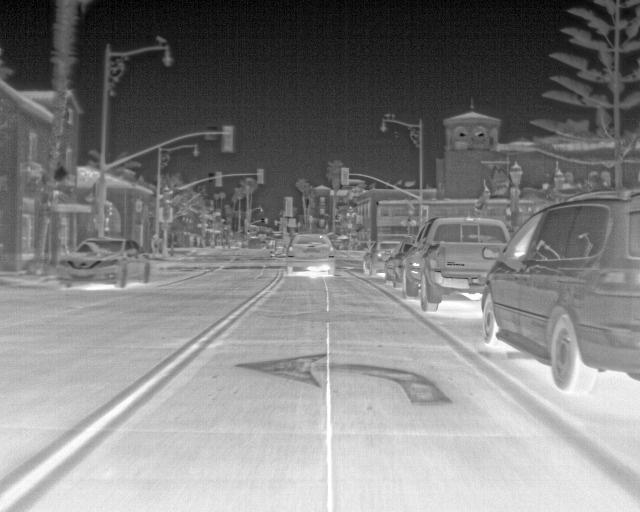bicycle: (476, 186, 637, 390), (400, 213, 511, 311), (53, 238, 152, 290), (286, 232, 338, 274), (364, 237, 402, 277), (386, 246, 415, 282)
